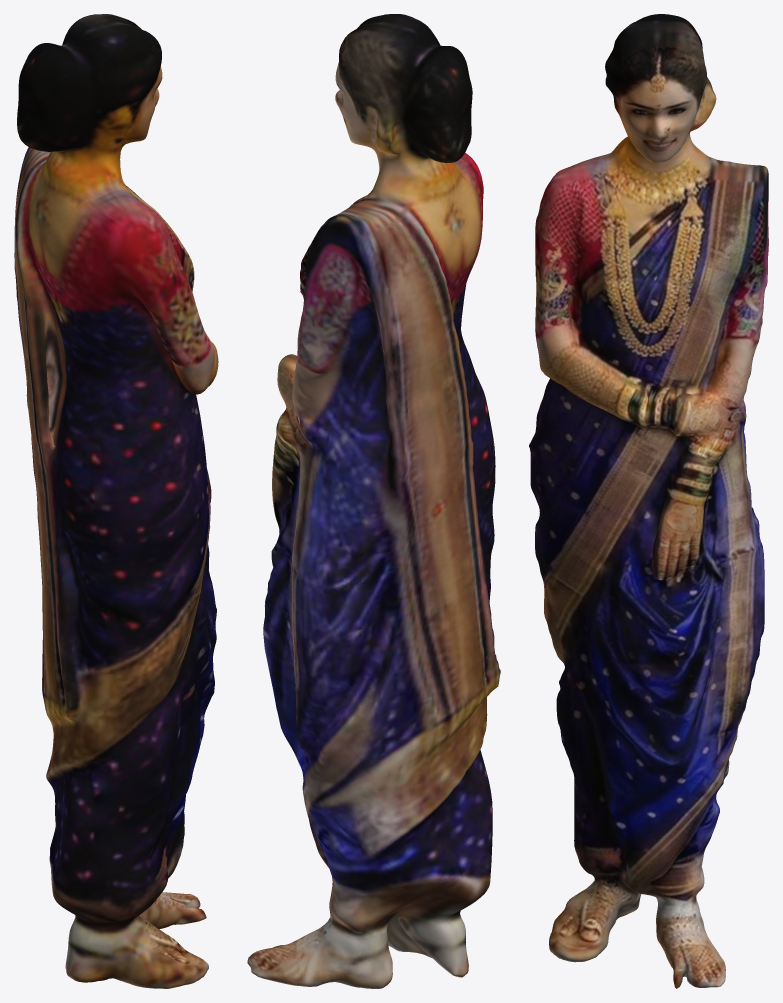
File: tripo_draft_e705711f-bcc4-4e40-9952-a7876e7aba12.glb
3 renders of one model, left to right at view 1: azimuth 30°, elevation 25°; view 2: azimuth 150°, elevation 25°; view 3: azimuth 270°, elevation 25°, orthographic. The views are drawn at different scales.
Parts seen in each view (by area): view 1: tripo_node_e705711f-bcc4-4e40-9952-a7876e7aba12; view 2: tripo_node_e705711f-bcc4-4e40-9952-a7876e7aba12; view 3: tripo_node_e705711f-bcc4-4e40-9952-a7876e7aba12.
Boxes of the visible parts, x1,y1,x2,y2 form: tripo_node_e705711f-bcc4-4e40-9952-a7876e7aba12: (14,14,218,988); tripo_node_e705711f-bcc4-4e40-9952-a7876e7aba12: (247,14,500,988); tripo_node_e705711f-bcc4-4e40-9952-a7876e7aba12: (529,14,768,988).
Size of the model in its own units: 0.2161 by 1 by 0.2393.
1 material, 1 textured.
